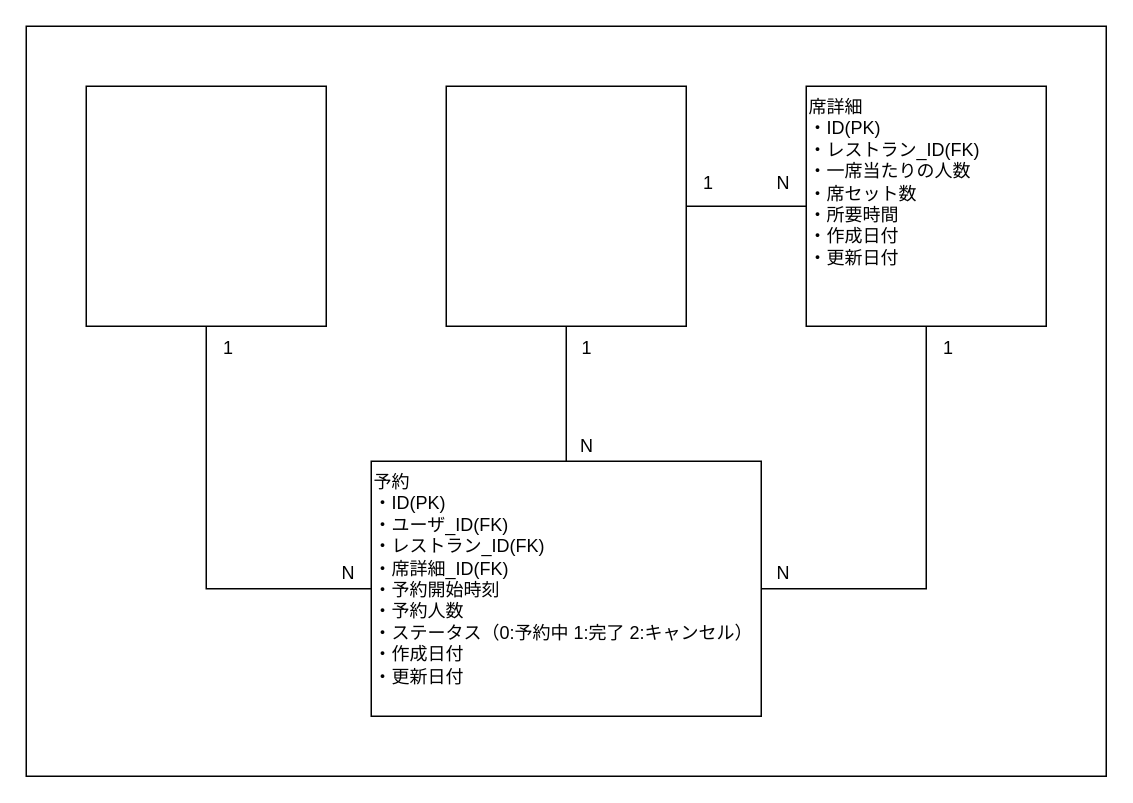
Some shapes in this 1133 by 803 pixel diagram are drawn without their labels. Here are the shapes that lost their labels. From the top down, the centre of each, then its label:
At (x=205, y=205): "ユーザ ・ ID(PK) ・ロール(0:一般 1:管理者) ・名前 ・電話番号 ・メールアドレス ・パスワード ・作成日付 ・更新日付".
At (x=565, y=205): "レストラン ・ID(PK) ・名前 ・ジャンル ・所在地 ・休業日 ・予約開始時刻 ・予約終了時刻 ・作成日付 ・更新日付".
